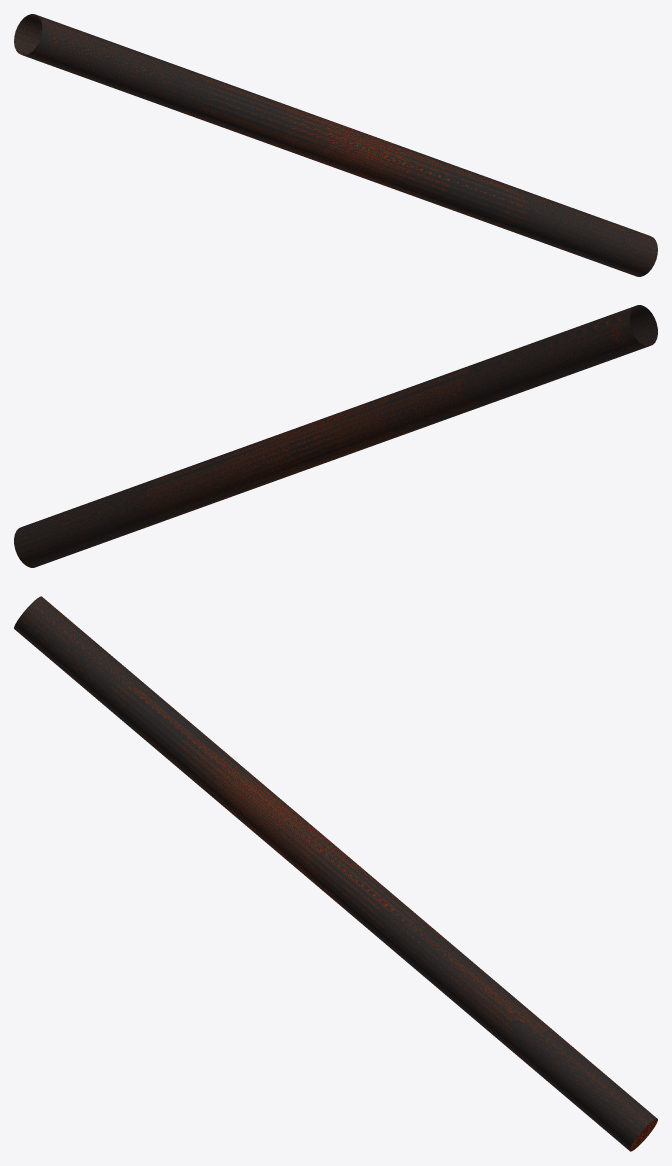
The model's file is original-32.obj.
3 views of the same model, one above another, from view 1: azimuth 30°, elevation 25°; view 2: azimuth 150°, elevation 25°; view 3: azimuth 330°, elevation 25° (orthographic).
Parts seen in each view (by area): view 1: mesh5/mesh5-geometry#mesh5-geometry; view 2: mesh5/mesh5-geometry#mesh5-geometry; view 3: mesh5/mesh5-geometry#mesh5-geometry.
Boxes of the visible parts, box(x1,y1,x2,y2) form: mesh5/mesh5-geometry#mesh5-geometry: box(14, 14, 657, 276); mesh5/mesh5-geometry#mesh5-geometry: box(14, 305, 657, 567); mesh5/mesh5-geometry#mesh5-geometry: box(14, 596, 657, 1151).
Bounding box in the file's own units: 0.5283 × 0.3229 × 0.031.
